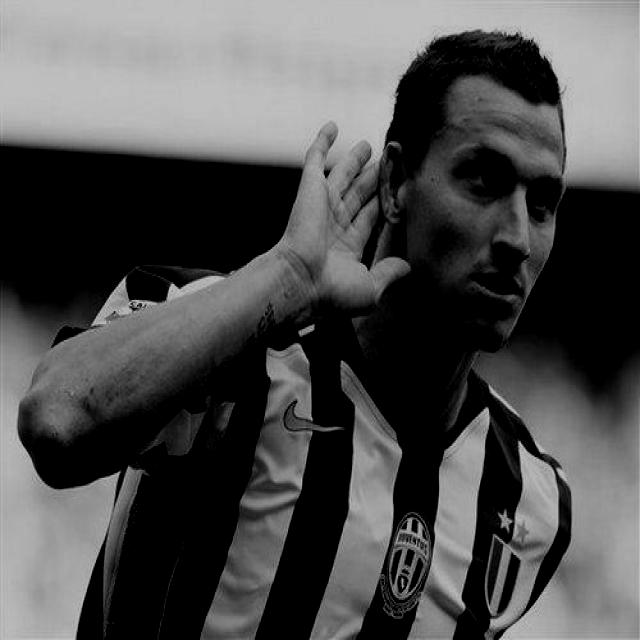real: (406, 113, 566, 345)
